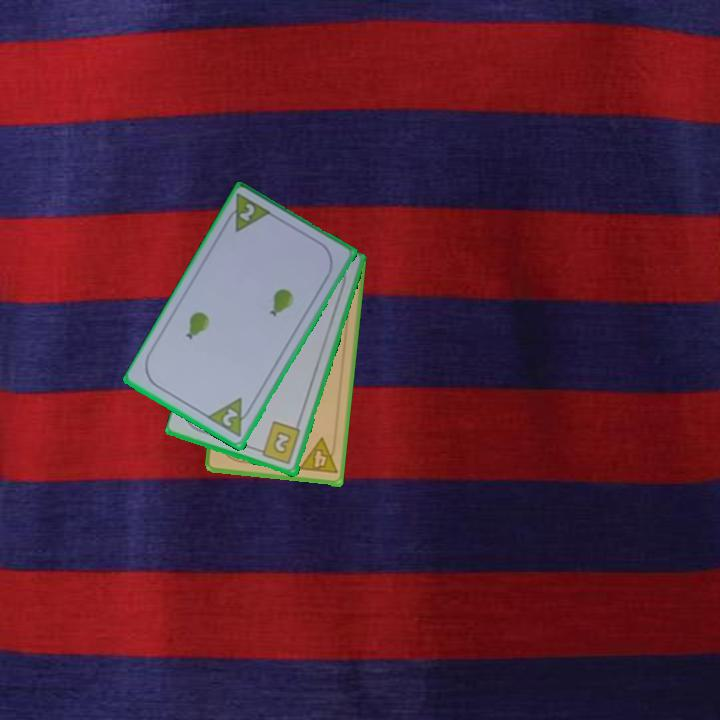2b: (253, 419, 303, 467)
2p: (220, 191, 275, 236), (204, 394, 256, 441)
4p: (295, 435, 340, 477)
